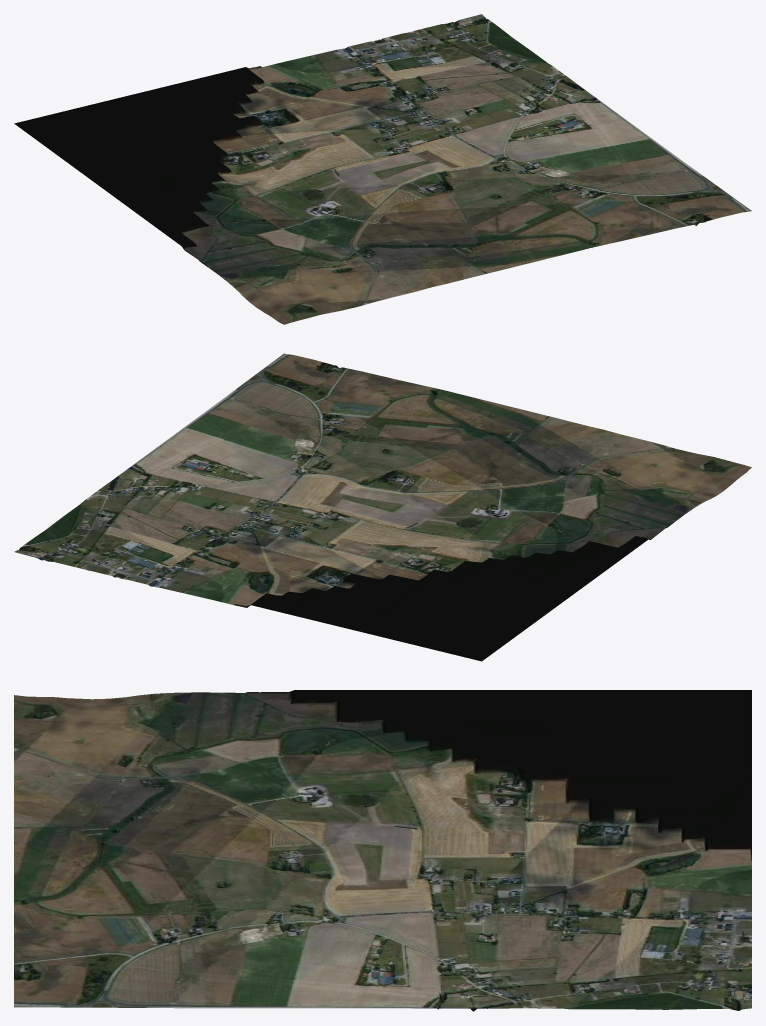
The model's file is map_10_251_431.dae.
3 views of the same model, one above another, from view 1: azimuth 30°, elevation 25°; view 2: azimuth 150°, elevation 25°; view 3: azimuth 270°, elevation 25° (orthographic). The views are drawn at different scales.
Parts seen in each view (by area): view 1: Ter0; view 2: Ter0; view 3: Ter0.
Part boxes in pixels (x1,y1,x2,y2): Ter0: [14, 14, 751, 324]; Ter0: [14, 353, 751, 661]; Ter0: [14, 690, 751, 1011].
Size of the model in its own units: 2044 by 2044 by 36.85.
3 materials, 3 textured.
